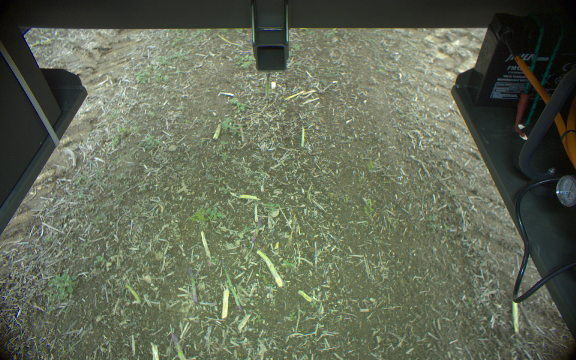aspa: (220, 262, 241, 311), (167, 331, 185, 360), (246, 218, 262, 243), (186, 270, 198, 302), (199, 231, 212, 259), (262, 71, 271, 100)
